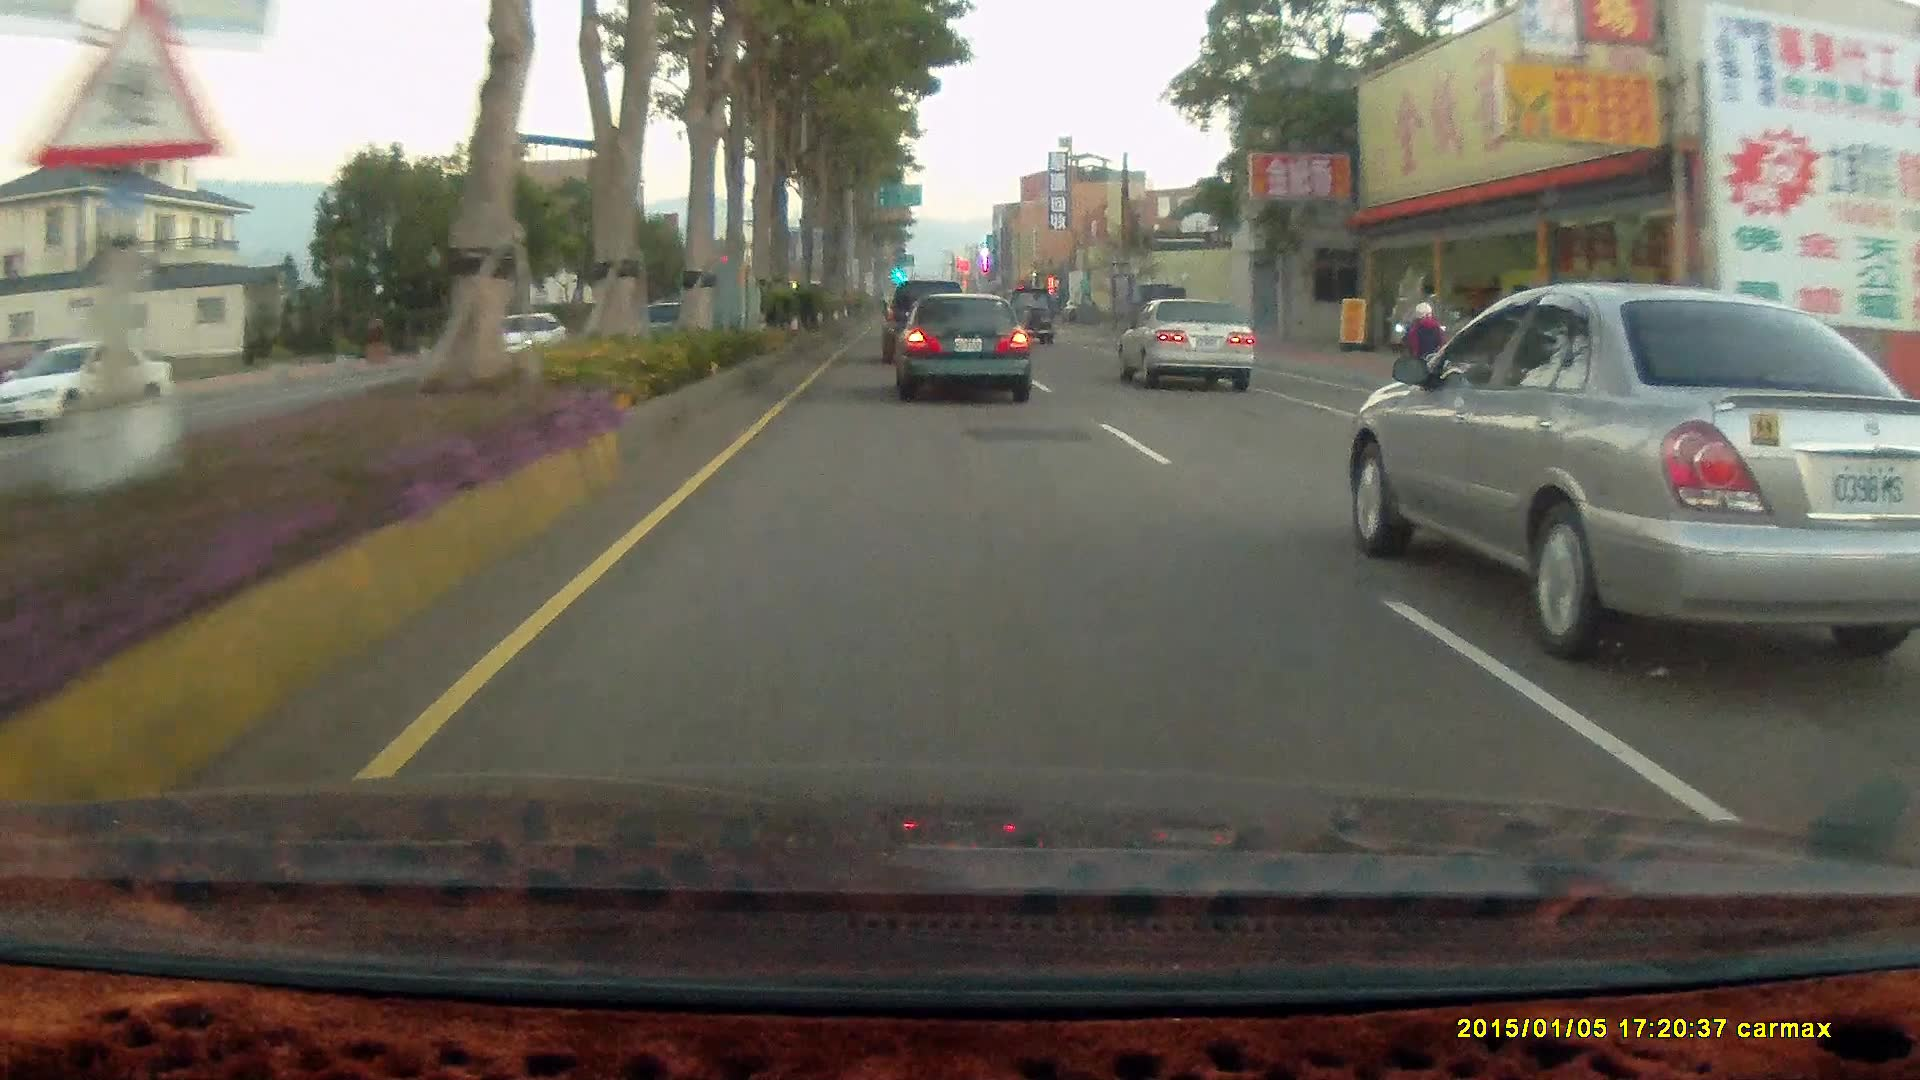rider: (1383, 290, 1459, 420), (1396, 301, 1455, 410)
vehicle: (1341, 289, 1920, 641), (1, 342, 178, 440), (0, 341, 177, 439), (892, 294, 1035, 408), (891, 291, 1032, 403), (1113, 296, 1255, 392), (1122, 302, 1261, 396), (883, 282, 973, 366), (881, 279, 964, 366), (471, 309, 566, 361), (477, 309, 565, 364), (1003, 284, 1055, 347), (1127, 282, 1183, 336)
